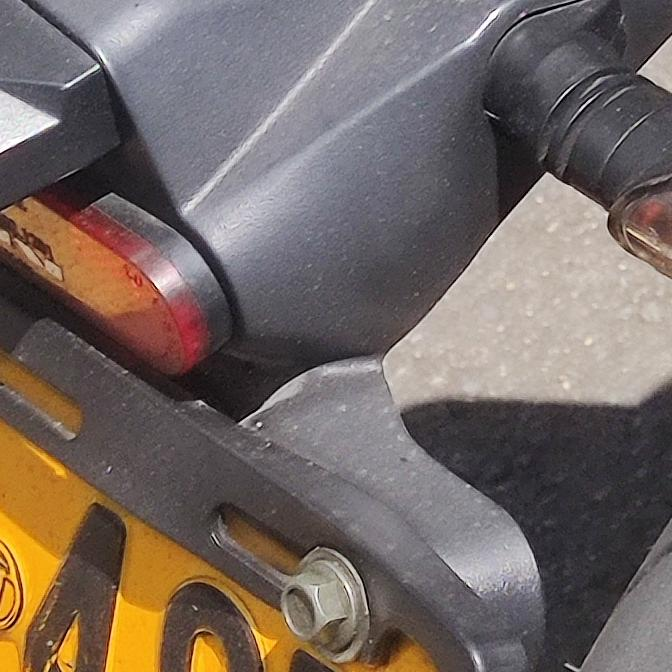plates: (0, 293, 478, 672)
